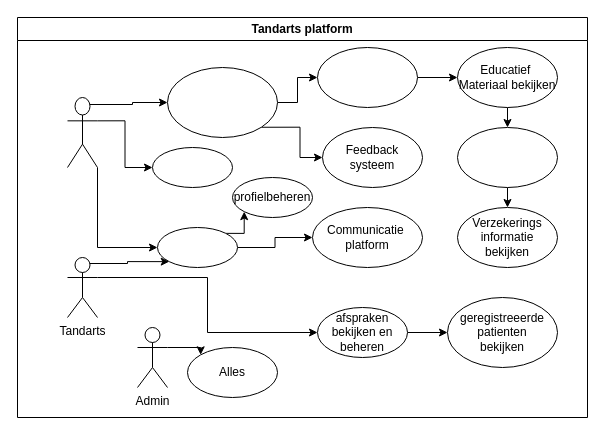
Some shapes in this 605 by 435 pixel diagram are drawn without their labels. The shapes that lost their labels are listed below. From the top down, each one's centre as x and y in pixels, then its label:
point 367,77: Tandartsprofielen bekijken
point 222,102: afspraak maken/wijzigen/annuleren
point 82,132: Patient
point 192,167: Registreren
point 507,157: Behandelings geschiedenis bekijken
point 197,247: Inlog/uitlog
